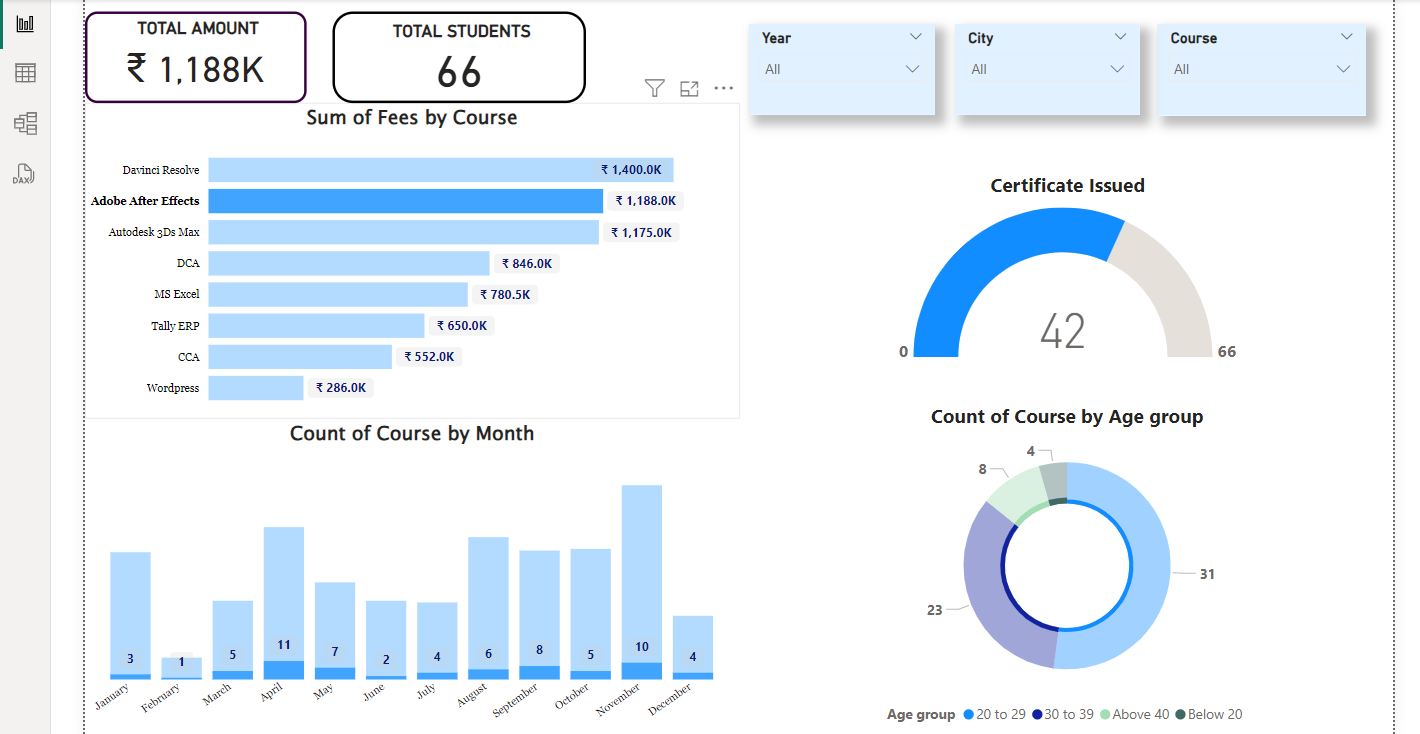

Layout of this report page (visuals, bound fields, positions):
{"tool":"powerbi","page":{"name":"ABC Institute report","canvas":[1280,720],"ordinal":0},"visuals":[{"type":"clusteredColumnChart","fields":{"Category":["Student Course Details.Date of Join.Variation.Date Hierarchy.Year","Student Course Details.Date of Join.Variation.Date Hierarchy.Quarter","Student Course Details.Date of Join.Variation.Date Hierarchy.Month","Student Course Details.Date of Join.Variation.Date Hierarchy.Day"],"Y":["Student Course Details.Course"]},"box":[0,410.4,640.3,309],"z":0},{"type":"donutChart","fields":{"Y":["Student Course Details.Course"],"Category":["Student Course Details.Age group"]},"box":[640.3,395.5,640.3,323.9],"z":1000},{"type":"clusteredBarChart","fields":{"Category":["Student Course Details.Course"],"Y":["Student Course Details.Fees"]},"box":[0,101.5,640.3,309],"z":2000},{"type":"card","title":"TOTAL AMOUNT","fields":{"Values":["Student Course Details.Fees"]},"box":[0,12.2,216.4,89.3],"z":3000},{"type":"card","title":"TOTAL STUDENTS","fields":{"Values":["Student Course Details.Student Name"]},"box":[242.1,12.2,248.2,89.3],"z":4000},{"type":"gauge","title":"Certificate Issued","fields":{"Y":["Personal details.CountYes"]},"box":[740.3,168.7,443.3,191],"z":5000},{"type":"slicer","fields":{"Values":["Student Course Details.Date of Join.Variation.Date Hierarchy.Year"]},"box":[649.1,24.7,182.5,89.2],"z":6000},{"type":"slicer","fields":{"Values":["Personal details.City"]},"box":[850.8,24.7,181.1,89.2],"z":7000},{"type":"slicer","fields":{"Values":["Student Course Details.Course"]},"box":[1049.2,24.5,204.2,89.3],"z":8000}]}

Visuals, with their boxes on the page's 1280x720 design canvas (x1, y1, x2, y2). These are canvas units, not pixel positions in the 1420x734 screenshot, which may show the page scaled, cropped or inside an application window:
clusteredColumnChart - Student Course Details.Date of Join.Variation.Date Hierarchy.Year x Student Course Details.Date of Join.Variation.Date Hierarchy.Quarter: [left=0, top=410, right=640, bottom=719]
donutChart - Student Course Details.Course x Student Course Details.Age group: [left=640, top=396, right=1281, bottom=719]
clusteredBarChart - Student Course Details.Course x Student Course Details.Fees: [left=0, top=102, right=640, bottom=410]
"TOTAL AMOUNT" card: [left=0, top=12, right=216, bottom=102]
"TOTAL STUDENTS" card: [left=242, top=12, right=490, bottom=102]
"Certificate Issued" gauge: [left=740, top=169, right=1184, bottom=360]
slicer - Student Course Details.Date of Join.Variation.Date Hierarchy.Year: [left=649, top=25, right=832, bottom=114]
slicer - Personal details.City: [left=851, top=25, right=1032, bottom=114]
slicer - Student Course Details.Course: [left=1049, top=24, right=1253, bottom=114]
